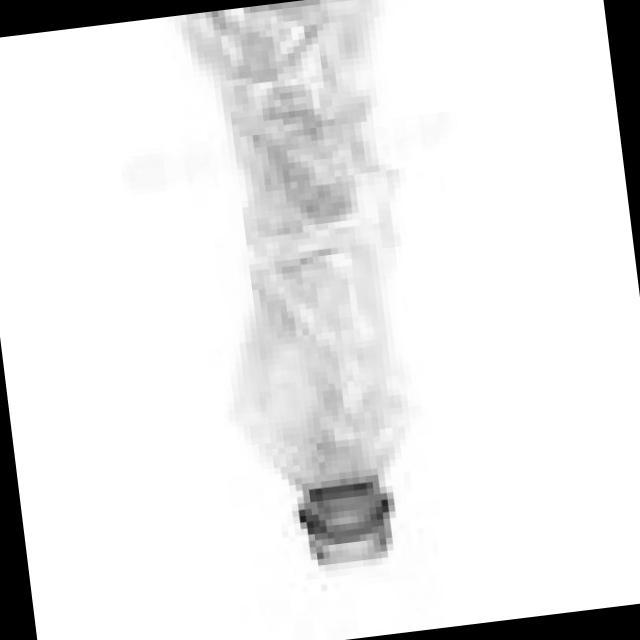defected: (147, 0, 486, 607)
